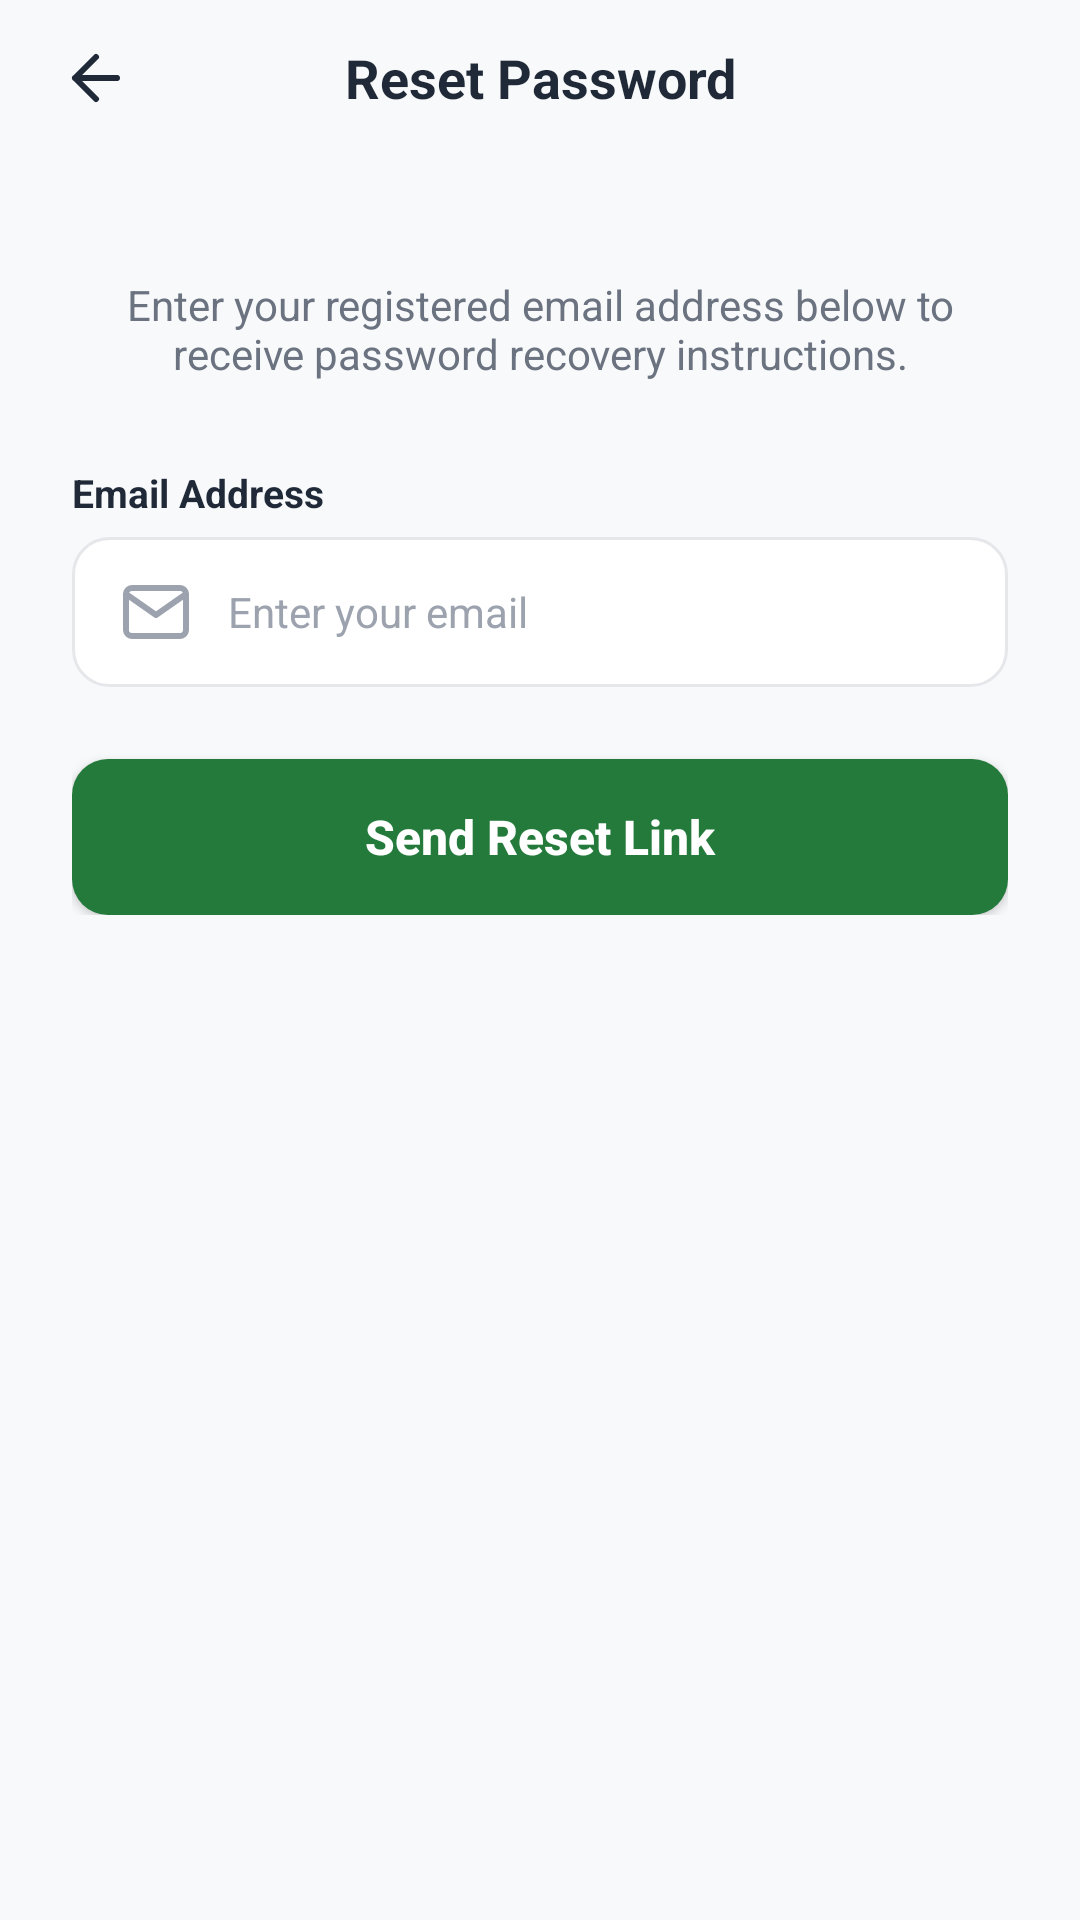

Point at icon controls on the screen. Image size 1080x1920, points as [x,y].
Back: [96,78]
